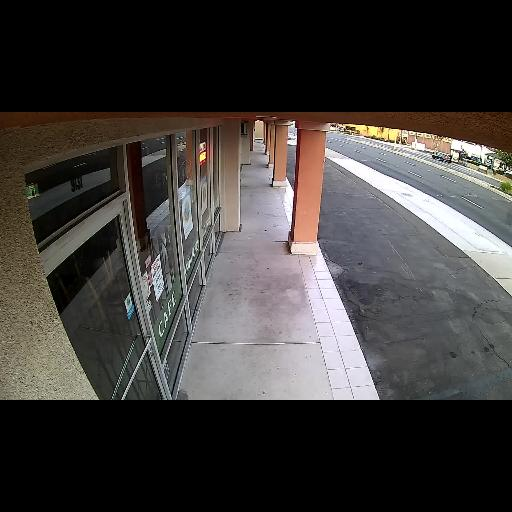car: (430, 150, 453, 164)
